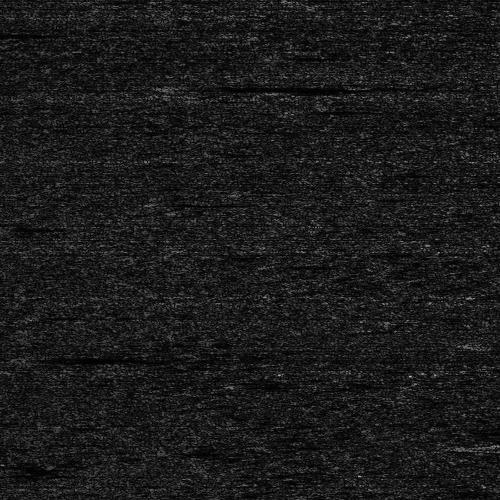object: (0, 352, 68, 361), (445, 441, 500, 452), (142, 83, 215, 88), (455, 341, 500, 348), (265, 108, 318, 111), (0, 216, 4, 241)
shadow: (31, 352, 153, 361), (179, 83, 337, 88), (0, 216, 17, 241), (0, 29, 59, 34), (292, 108, 348, 111), (482, 341, 500, 348)
